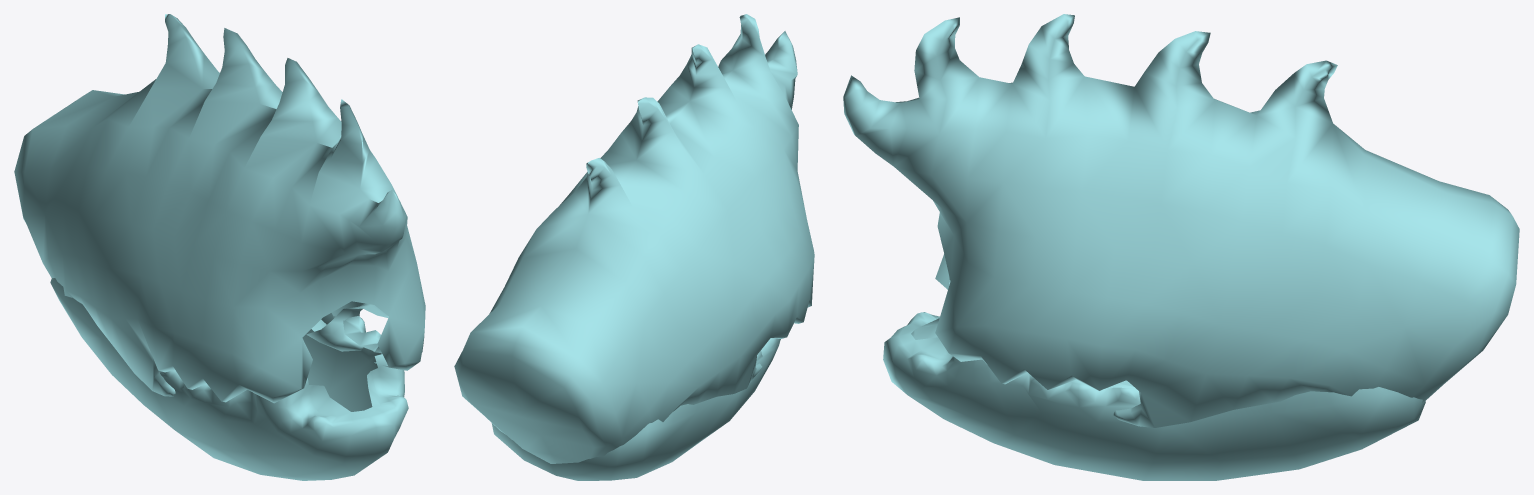
File: Nylon_Exported_Body.fbx
3 renders of one model, left to right at view 1: azimuth 30°, elevation 25°; view 2: azimuth 150°, elevation 25°; view 3: azimuth 270°, elevation 25°, orthographic. The views are drawn at different scales.
Parts seen in each view (by area): view 1: Back_low_LOD0, stomach_low_LOD0; view 2: Back_low_LOD0, stomach_low_LOD0; view 3: Back_low_LOD0, stomach_low_LOD0.
Part boxes in pixels (x1,y1,x2,y2): Back_low_LOD0: [14, 14, 425, 403]; stomach_low_LOD0: [50, 278, 408, 480]; Back_low_LOD0: [454, 14, 814, 463]; stomach_low_LOD0: [491, 338, 780, 480]; Back_low_LOD0: [843, 14, 1519, 427]; stomach_low_LOD0: [883, 312, 1425, 480].
Size of what is drawn, in the model's own units: 0.8508 by 0.6337 by 0.3809.
